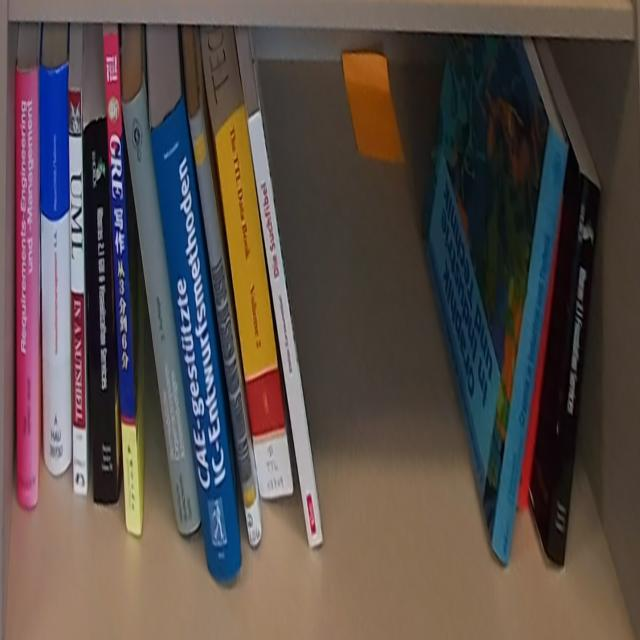Book Spine: (151, 97, 243, 581), (121, 79, 202, 533), (491, 125, 570, 565), (248, 110, 325, 552), (215, 101, 296, 498), (191, 108, 263, 547), (548, 173, 602, 570), (104, 28, 142, 538), (83, 119, 119, 508), (41, 61, 73, 477), (16, 63, 39, 512), (69, 86, 88, 502)
